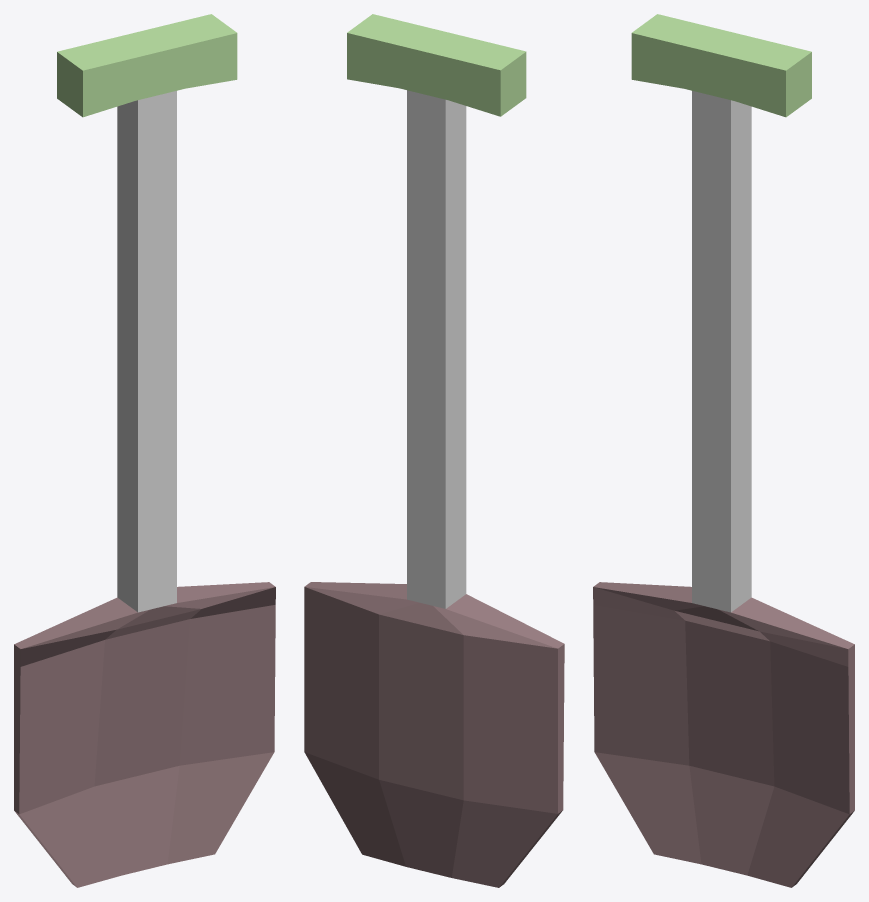
The model's file is AR_shovel_Scene_Collection.fbx.
3 renders of one model, left to right at view 1: azimuth 30°, elevation 25°; view 2: azimuth 150°, elevation 25°; view 3: azimuth 330°, elevation 25°, orthographic.
Visible parts, largest first — view 1: Plane.001; view 2: Plane.001; view 3: Plane.001.
Part boxes in pixels (x1,y1,x2,y2): Plane.001: (14,14,275,887); Plane.001: (304,14,564,887); Plane.001: (593,14,854,887).
Bounding box in the file's own units: 52.46 × 163 × 10.07.
